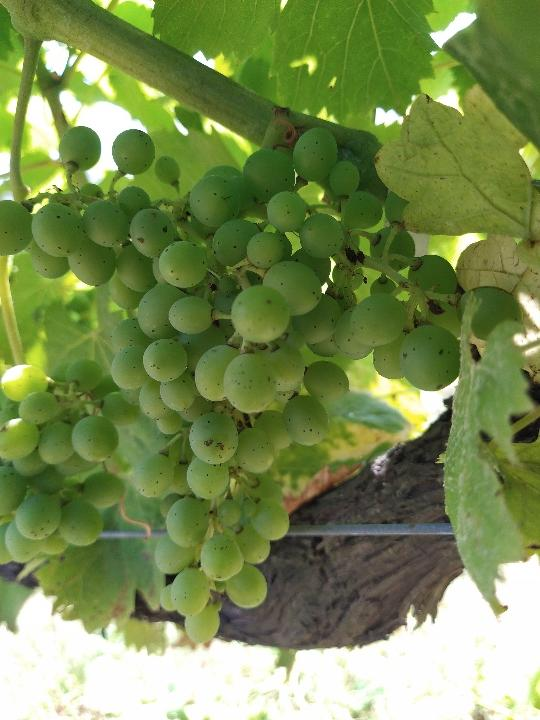grape: (2, 123, 524, 648)
